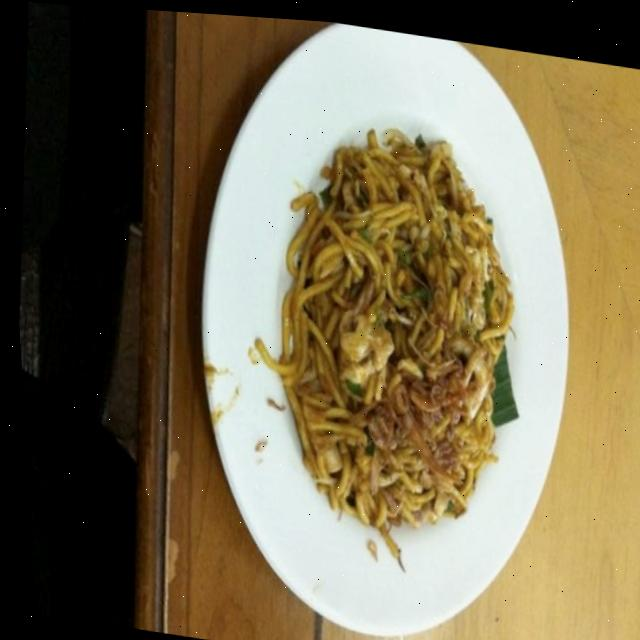面条主食: (128, 21, 640, 640)
